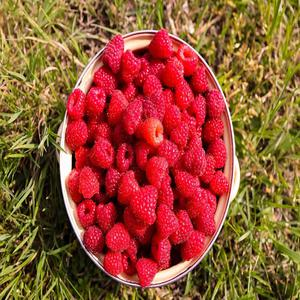raspb: (64, 28, 234, 288)
